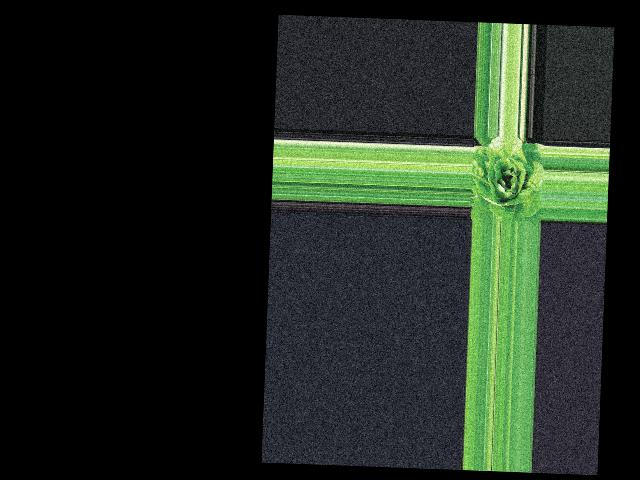lettuce: (469, 139, 542, 221)
